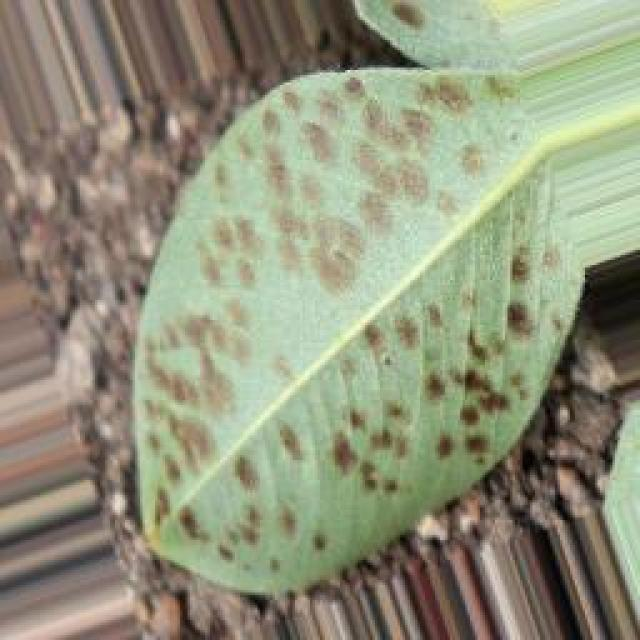Whitefly: (84, 38, 560, 549)
